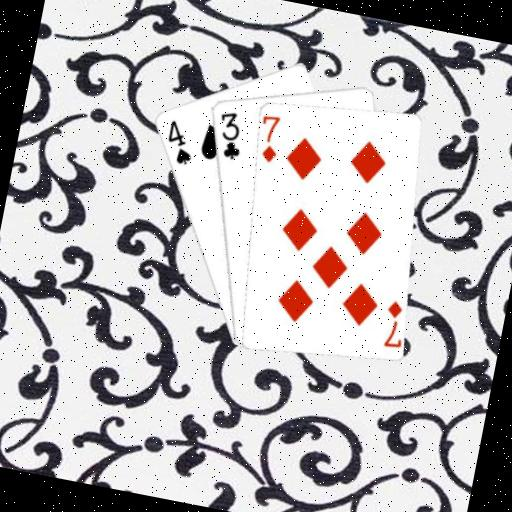3C: (210, 106, 249, 162)
4S: (160, 116, 200, 168)
7D: (254, 111, 286, 166), (377, 297, 408, 351)
